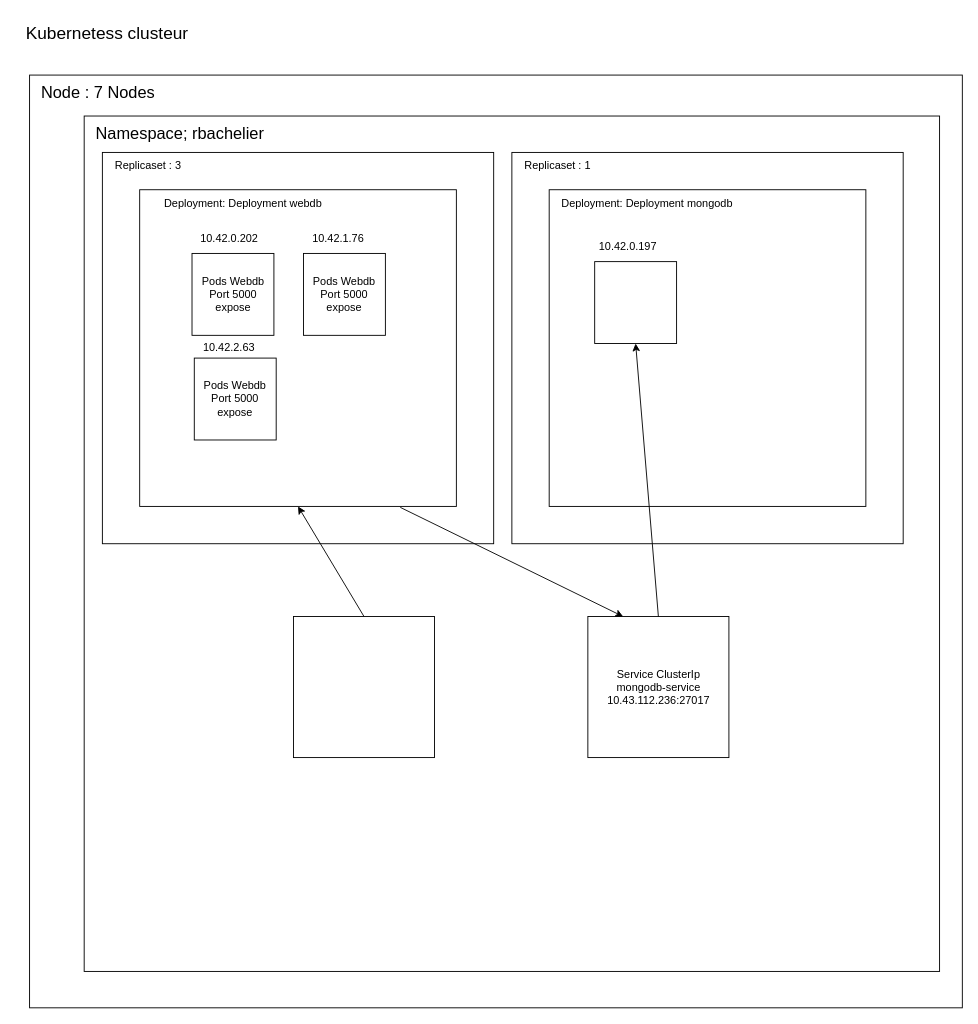
Some shapes in this 978 by 1024 pixel diagram are drawn without their labels. Here are the shapes that lost their labels. From the top down, the centre of each, then its label:
At pixel 635 302: "Pods mongodb Port 27017 expose".
At pixel 364 687: "Service NodePort Webdb-service [Any Node]:31470".
